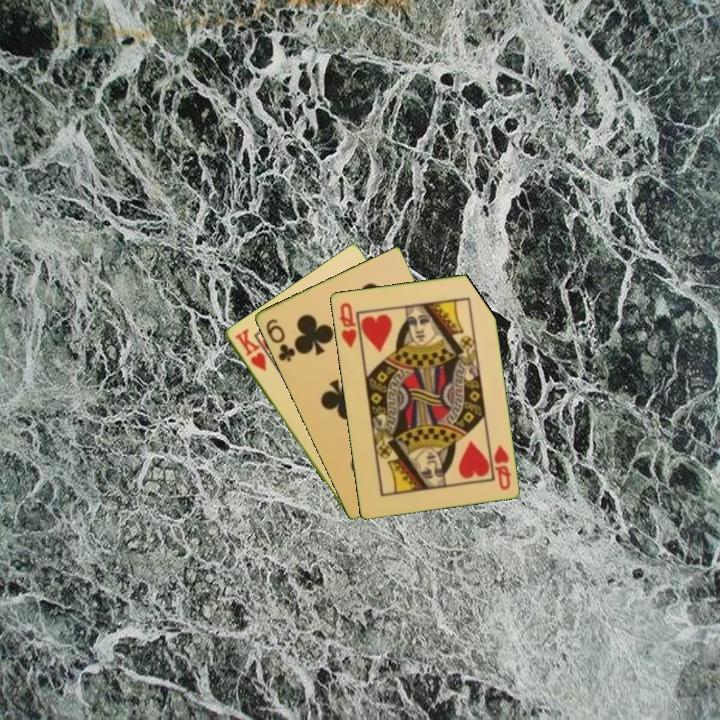6c: (262, 315, 298, 364)
Kh: (231, 325, 269, 374)
Qh: (490, 441, 514, 493), (335, 299, 359, 350)
